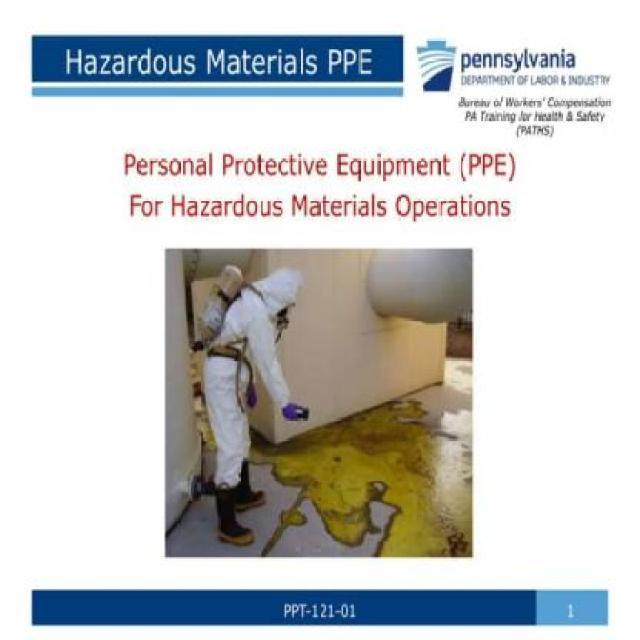spillage: (247, 387, 471, 560)
